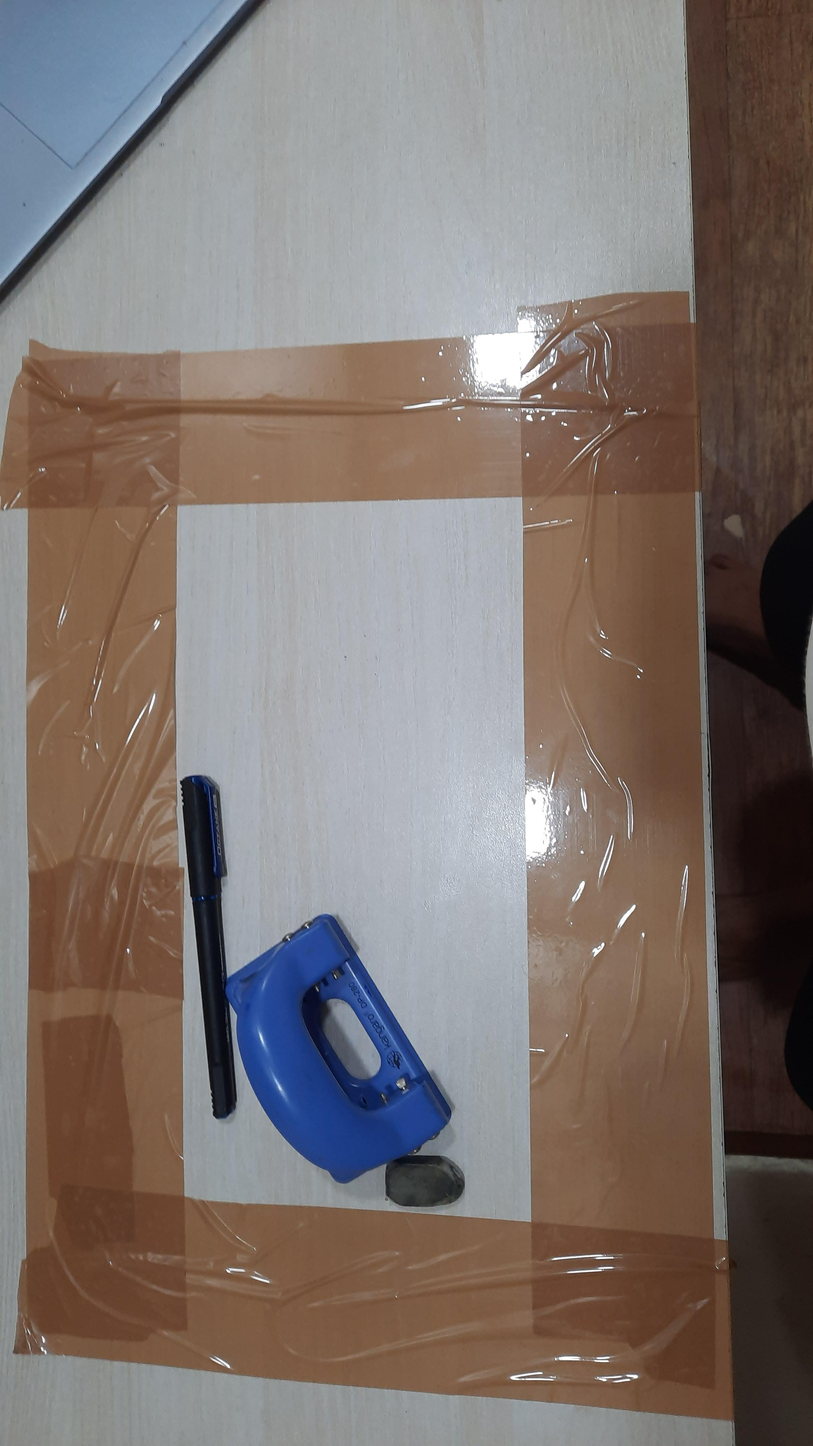Eraser: (384, 1152, 466, 1209)
Pen: (180, 775, 237, 1121)
Punch: (222, 912, 453, 1184)
